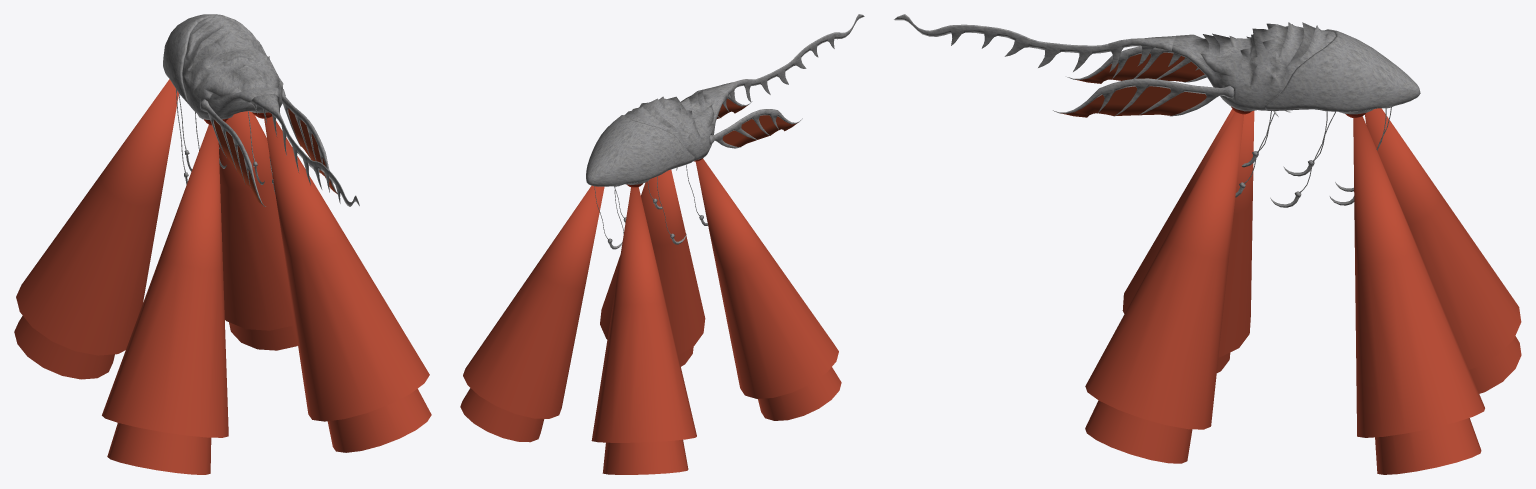
The model's file is Spotlight_from_pressure_cus_yes_rigged.fbx.
3 views of the same model, side by side, from view 1: azimuth 30°, elevation 25°; view 2: azimuth 150°, elevation 25°; view 3: azimuth 270°, elevation 25° (orthographic). The views are drawn at different scales.
Visible parts, largest first — view 1: Searchlights91_23, Searchlights131_21, Searchlights51_25, Searchlights171_19, Searchlights231_13, Searchlights201_16, Searchlights21_26, Searchlights191_17, Searchlights11_27, Searchlights321_4; view 2: Searchlights51_25, Searchlights171_19, Searchlights91_23, Searchlights231_13, Searchlights131_21, Searchlights191_17, Searchlights201_16; view 3: Searchlights131_21, Searchlights171_19, Searchlights231_13, Searchlights51_25, Searchlights91_23, Searchlights11_27, Searchlights21_26, Searchlights191_17, Searchlights201_16, Searchlights321_4, Searchlights281_8, Searchlights331_3 (+1 smaller).
Part boxes in pixels (<box>): Searchlights91_23: <box>102,124,228,474</box>; Searchlights131_21: <box>264,116,431,452</box>; Searchlights51_25: <box>14,79,178,379</box>; Searchlights171_19: <box>218,111,297,350</box>; Searchlights231_13: <box>163,14,283,123</box>; Searchlights201_16: <box>200,99,265,206</box>; Searchlights21_26: <box>282,89,337,193</box>; Searchlights191_17: <box>214,120,263,205</box>; Searchlights11_27: <box>288,108,336,193</box>; Searchlights321_4: <box>250,94,287,155</box>; Searchlights51_25: <box>591,187,696,474</box>; Searchlights171_19: <box>460,185,604,442</box>; Searchlights91_23: <box>695,159,841,420</box>; Searchlights231_13: <box>586,88,726,186</box>; Searchlights131_21: <box>600,169,705,366</box>; Searchlights191_17: <box>722,115,797,146</box>; Searchlights201_16: <box>709,109,802,148</box>; Searchlights131_21: <box>1085,111,1243,463</box>; Searchlights171_19: <box>1353,116,1484,474</box>; Searchlights231_13: <box>1168,22,1420,114</box>; Searchlights51_25: <box>1365,108,1521,393</box>; Searchlights91_23: <box>1122,109,1254,372</box>; Searchlights11_27: <box>1061,86,1206,117</box>; Searchlights21_26: <box>1053,78,1234,116</box>; Searchlights191_17: <box>1076,52,1204,83</box>; Searchlights201_16: <box>1067,46,1206,82</box>; Searchlights321_4: <box>1108,35,1176,71</box>; Searchlights281_8: <box>1038,42,1110,71</box>; Searchlights331_3: <box>981,26,1046,56</box>.
Size of the model in its own units: 264 by 300 by 427.
Materials: 5 (2 with a texture image).
